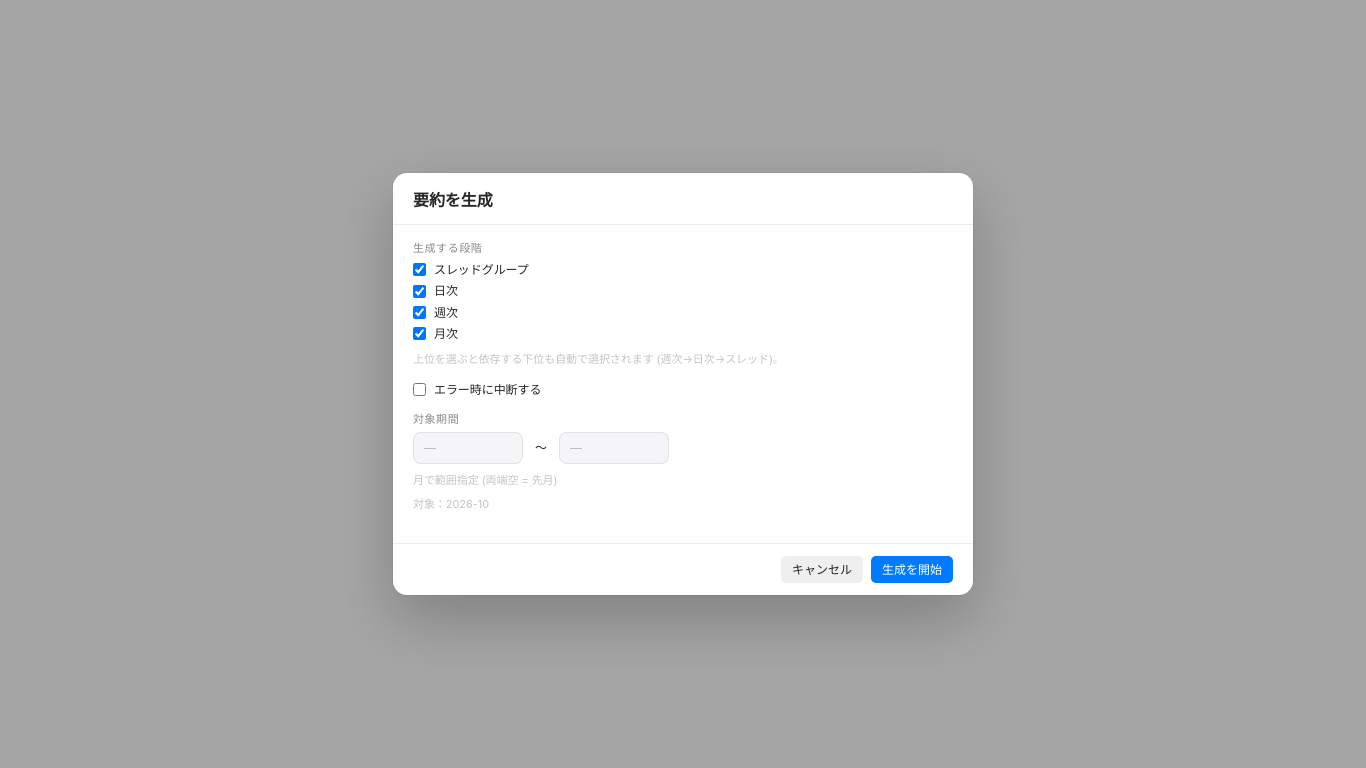
Test: SummaryGenerateDialog › uses an app-drawn month picker when monthly is the top granularity
The width and height of the screenshot is (1366, 768).
Step 1. Click the button named "開始" → (468, 448), box top-left (413, 432), bottom-right (523, 464)
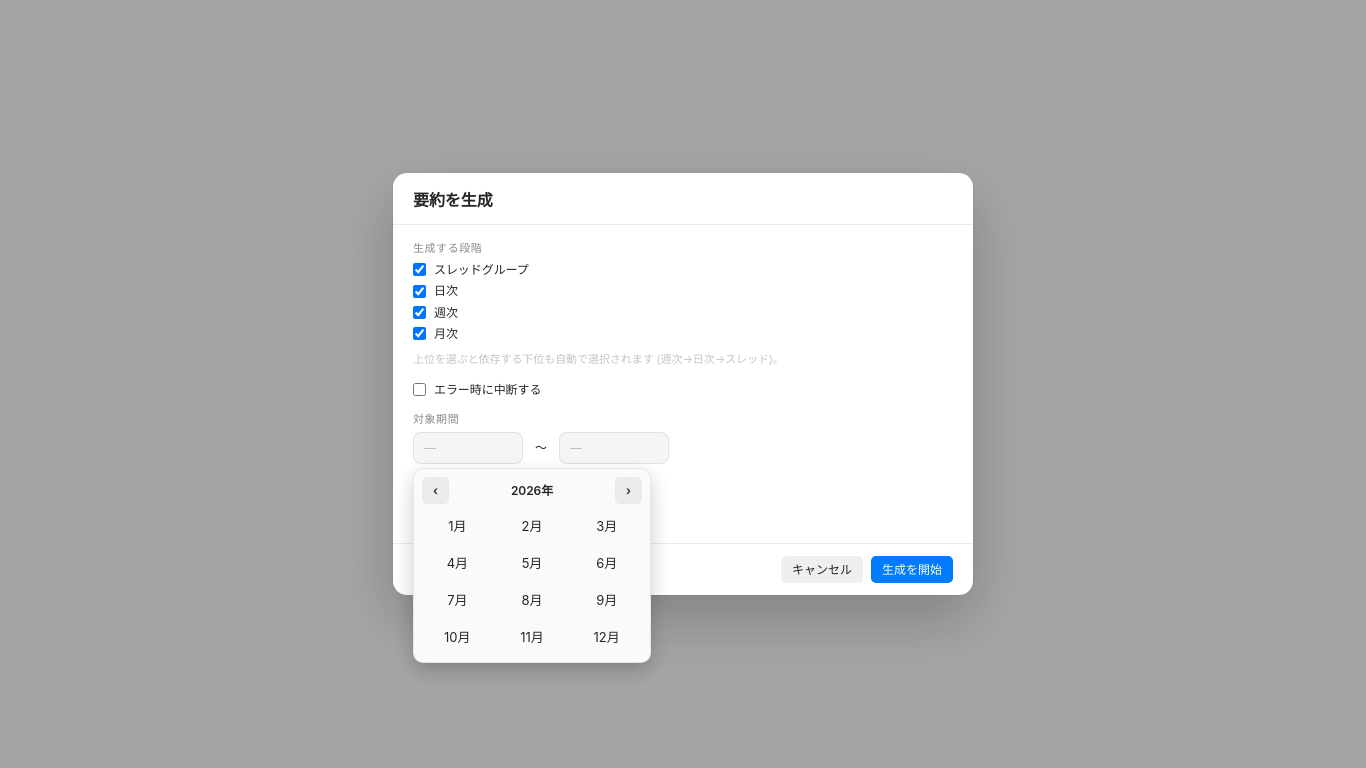
Result: the button "7月" is shown at top-left (422, 584), bottom-right (493, 617)
